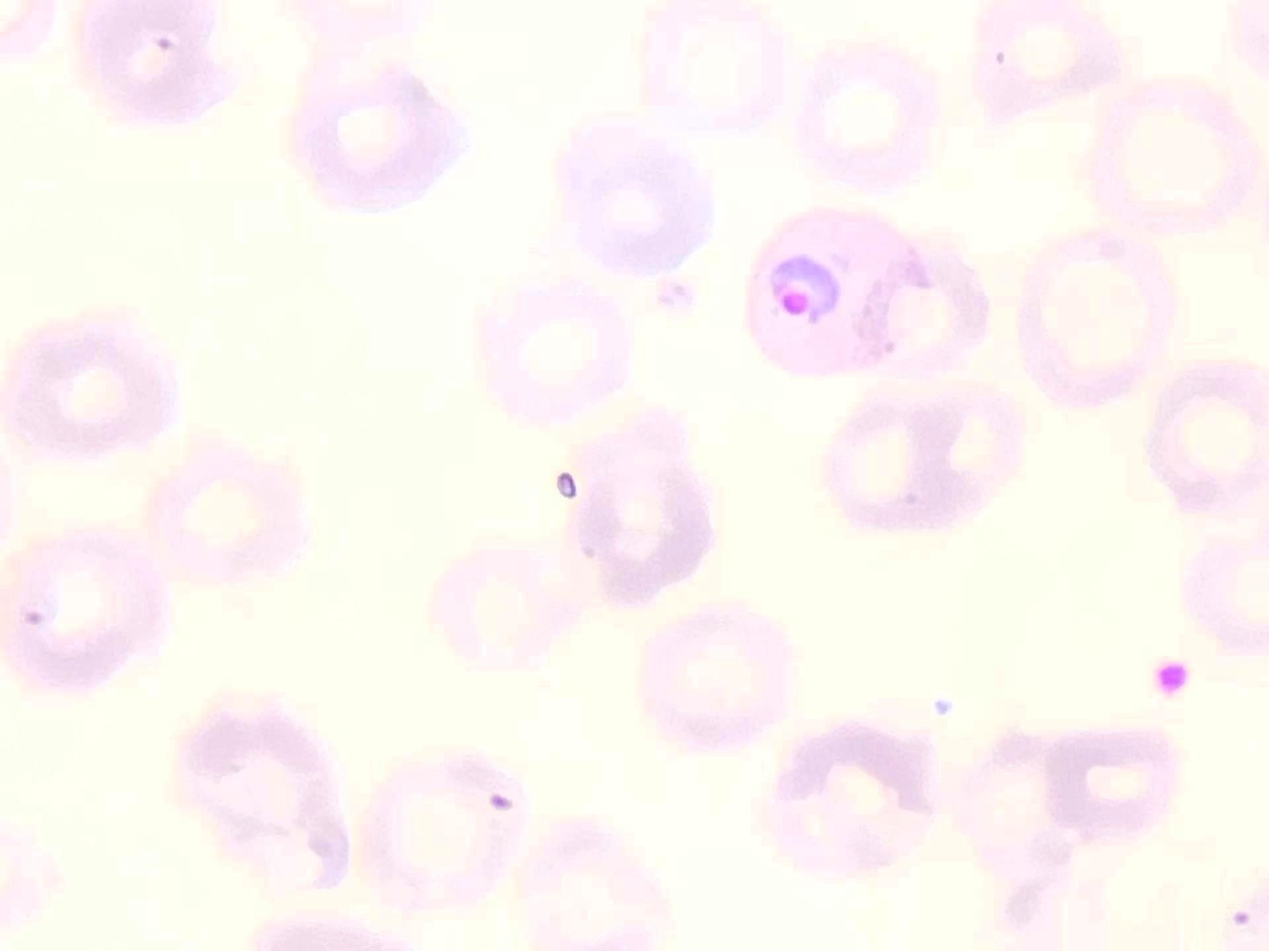Infected: (745, 208, 930, 373)
